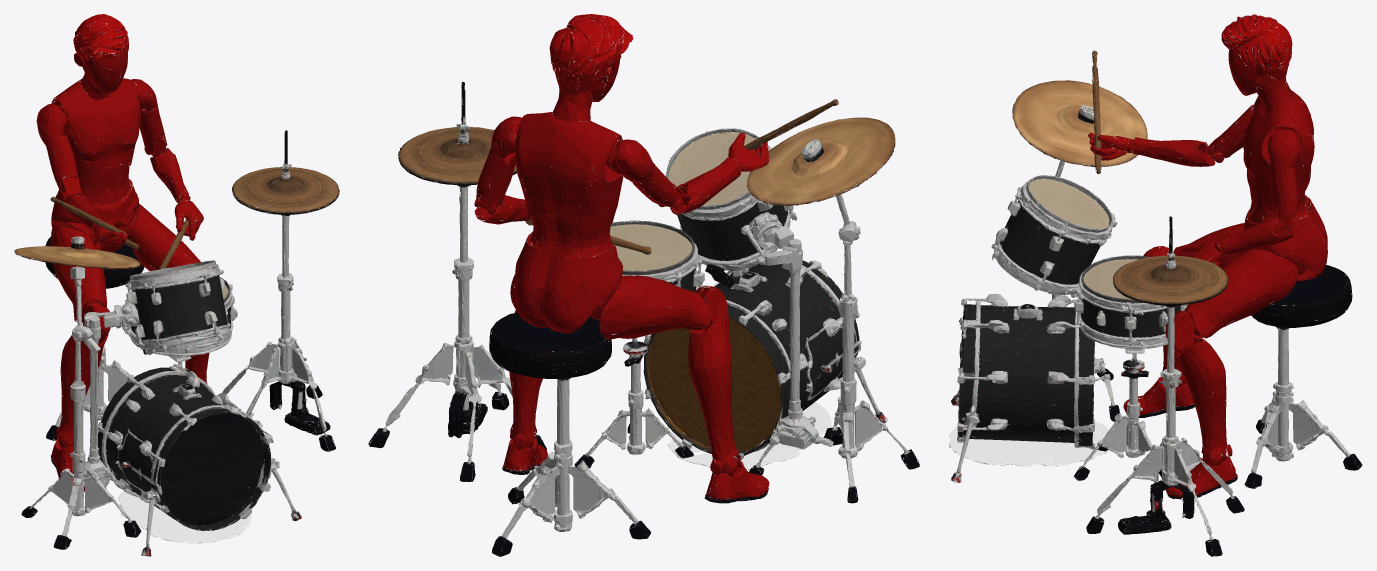
The model's file is fig_drummer.glb.
3 renders of one model, left to right at view 1: azimuth 30°, elevation 25°; view 2: azimuth 150°, elevation 25°; view 3: azimuth 270°, elevation 25°, orthographic. The views are drawn at different scales.
Visible parts, largest first — view 1: world; view 2: world; view 3: world.
Boxes of the visible parts, bbox=[...] form: world: bbox=[14, 14, 339, 556]; world: bbox=[368, 14, 919, 556]; world: bbox=[949, 14, 1362, 556].
Bounding box in the file's own units: 0.9178 × 1 × 0.8598.
1 material, 1 textured.
